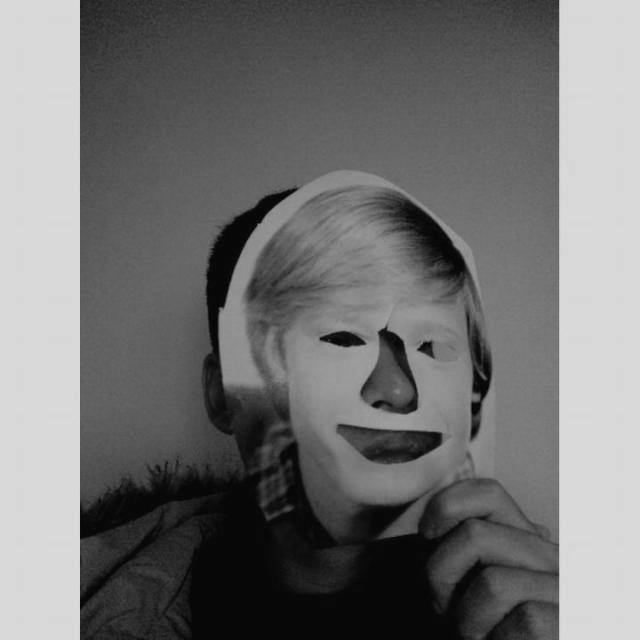fake: (217, 170, 499, 552)
